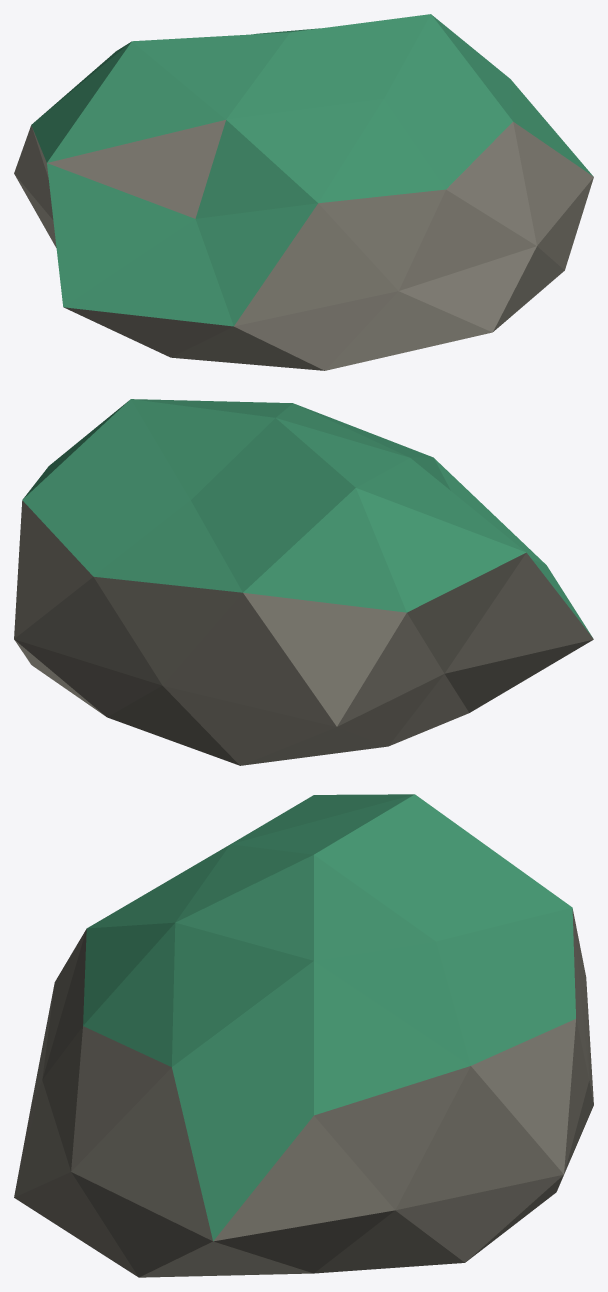
Rendered from W3_Rock_A.fbx.
The picture shows the model from 3 angles, top to bottom: view 1: azimuth 30°, elevation 25°; view 2: azimuth 150°, elevation 25°; view 3: azimuth 270°, elevation 25°; orthographic projection. The views are drawn at different scales.
Visible parts, largest first — view 1: W3_Rock_A; view 2: W3_Rock_A; view 3: W3_Rock_A.
Part boxes in pixels (x1,y1,x2,y2): W3_Rock_A: (14,14,593,370); W3_Rock_A: (14,399,593,765); W3_Rock_A: (14,794,593,1277).
Size of the model in its own units: 4.84 by 2.12 by 3.65.
